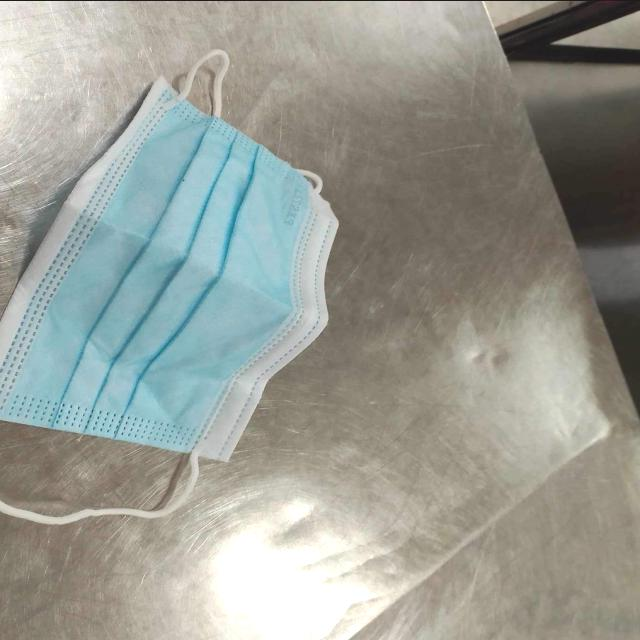General: (1, 47, 342, 526)
